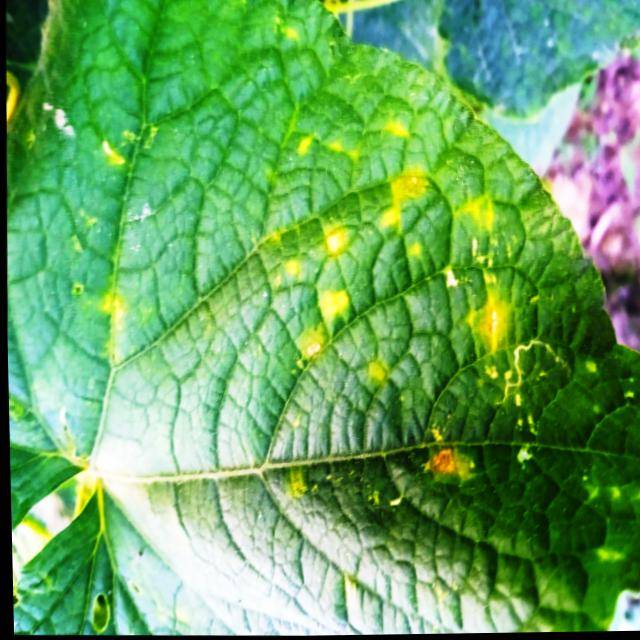Downy-Mildew: (6, 0, 640, 636)
